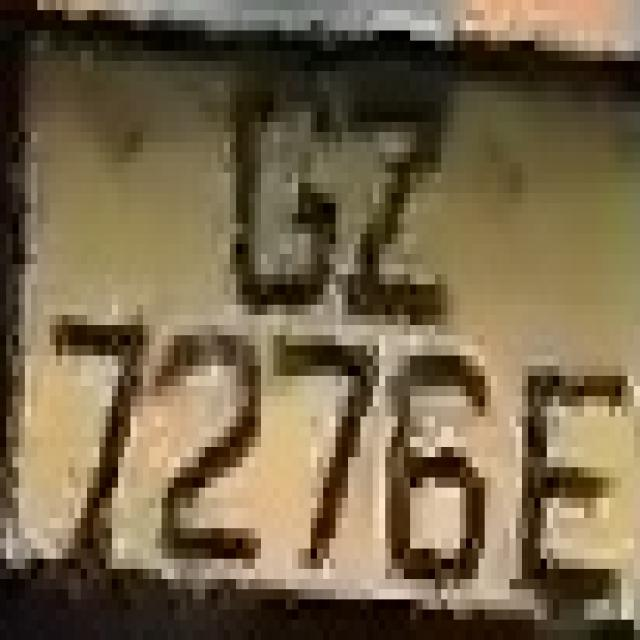2: (130, 294, 274, 600)
6: (360, 315, 510, 599)
7: (37, 284, 149, 569), (273, 304, 373, 610)
E: (497, 346, 628, 610)
G: (212, 51, 330, 356)
Z: (335, 71, 460, 335)
